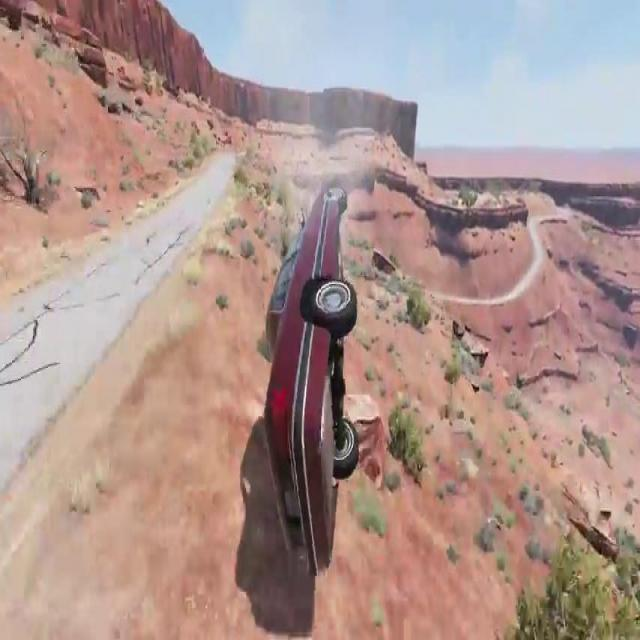accident: (258, 171, 361, 584)
